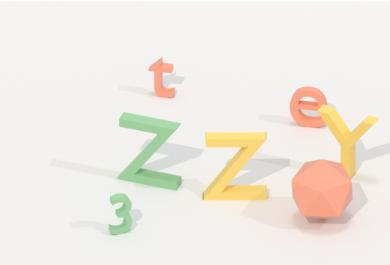0-TronCanh: (290, 156, 354, 224)
3: (105, 190, 134, 239)
Y: (316, 100, 382, 181)
Z: (112, 107, 184, 194), (199, 126, 273, 206)
e: (286, 83, 329, 134)
t: (143, 52, 180, 103)
